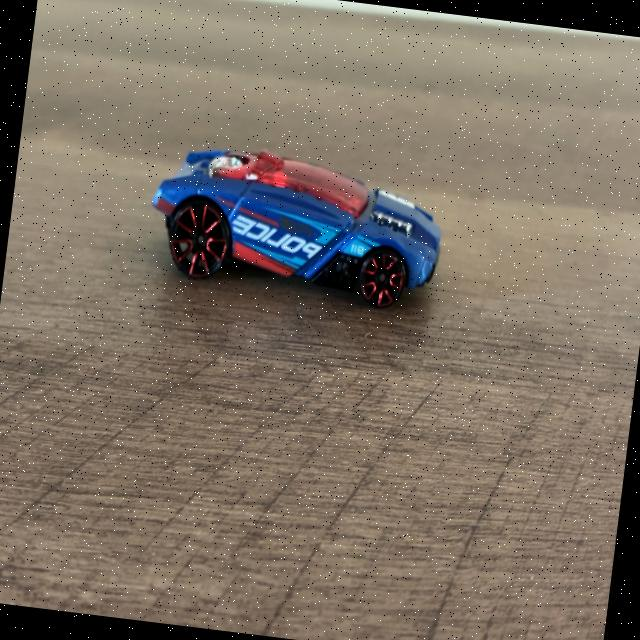cars: (152, 150, 441, 308)
